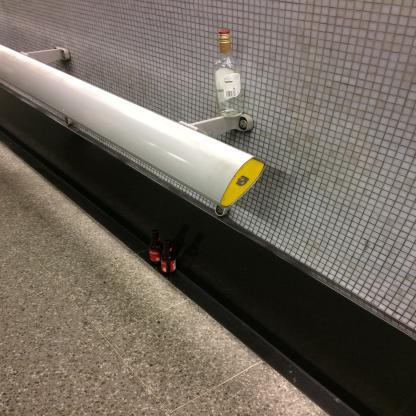trash: (213, 28, 246, 120), (158, 237, 180, 281), (148, 229, 166, 264)
